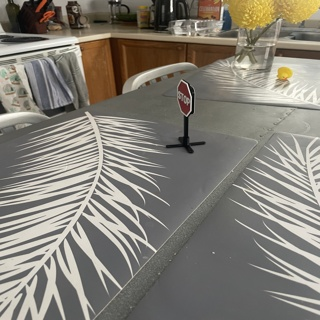sign_stop: (176, 81, 190, 117)
